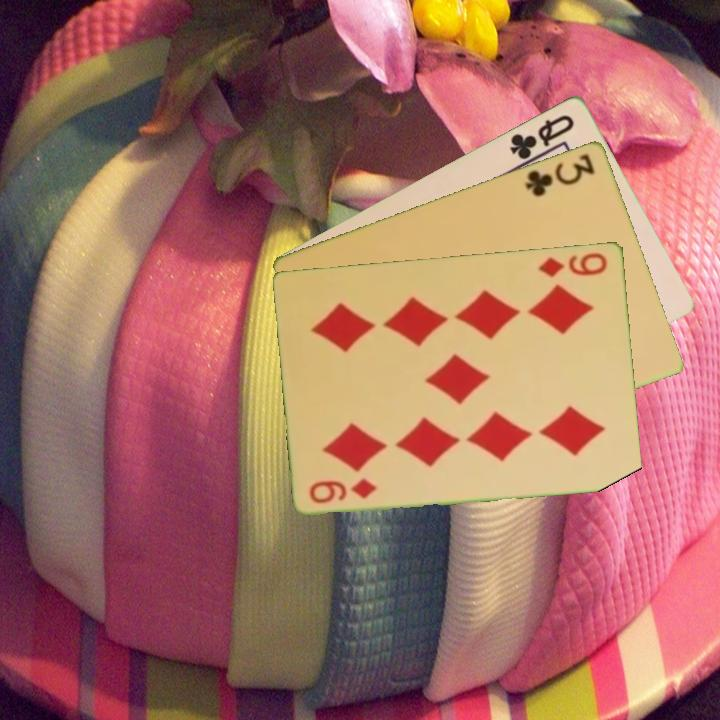3c: (522, 149, 598, 199)
9d: (306, 474, 381, 506), (536, 249, 611, 280)
Qc: (506, 110, 578, 162)
